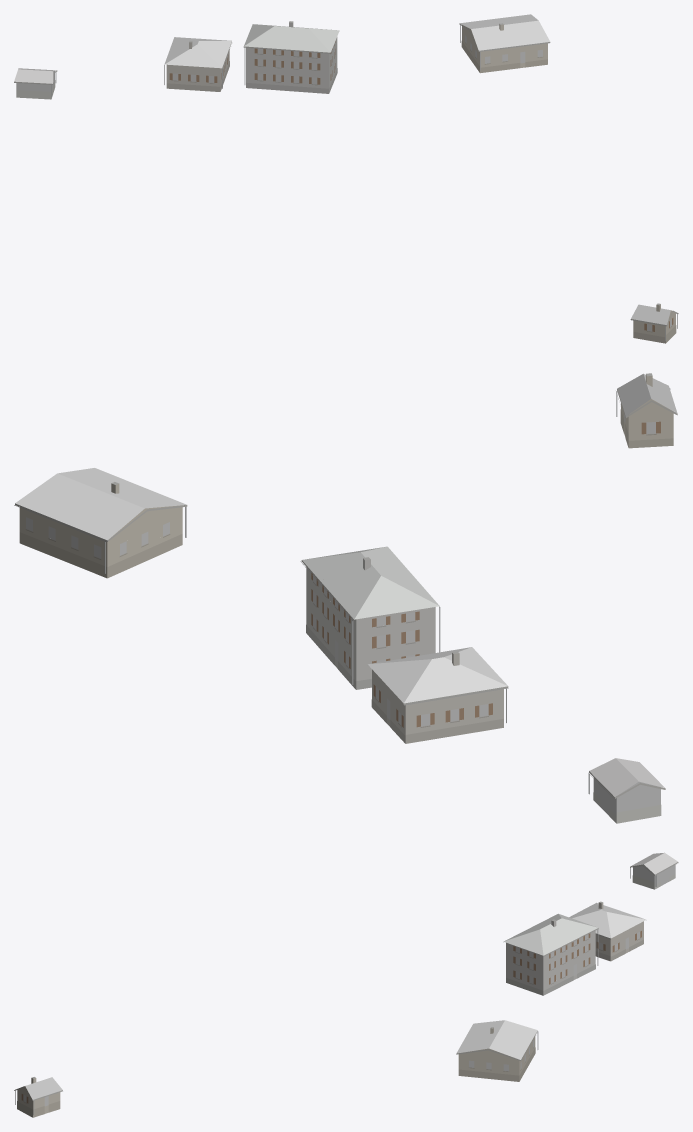
The picture shows the model from 3 angles, top to bottom: view 1: azimuth 30°, elevation 25°; view 2: azimuth 150°, elevation 25°; view 3: azimuth 270°, elevation 25°; orthographic projection. The views are drawn at different scales.
Visible parts, largest first — view 1: bld; view 2: bld; view 3: bld.
Part boxes in pixels (box(x1,y1,x2,y2)): bld: box(14, 14, 678, 343); bld: box(14, 373, 677, 823); bld: box(14, 852, 678, 1117).
Bounding box in the file's own units: 90.68 × 27.89 × 119.
